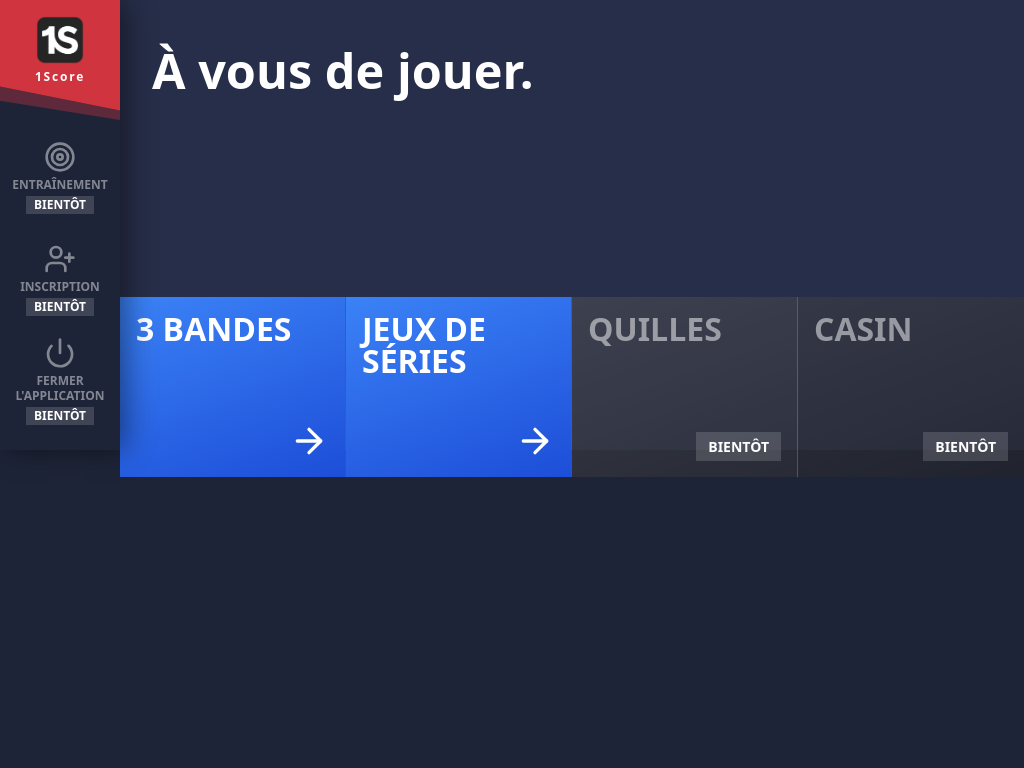
HomeScreen › opens the name sheet from the name field, and nothing else
The image size is (1024, 768).
Press the mouse on the button with test id "category-series" at (459, 387), box [346,297,572,477]
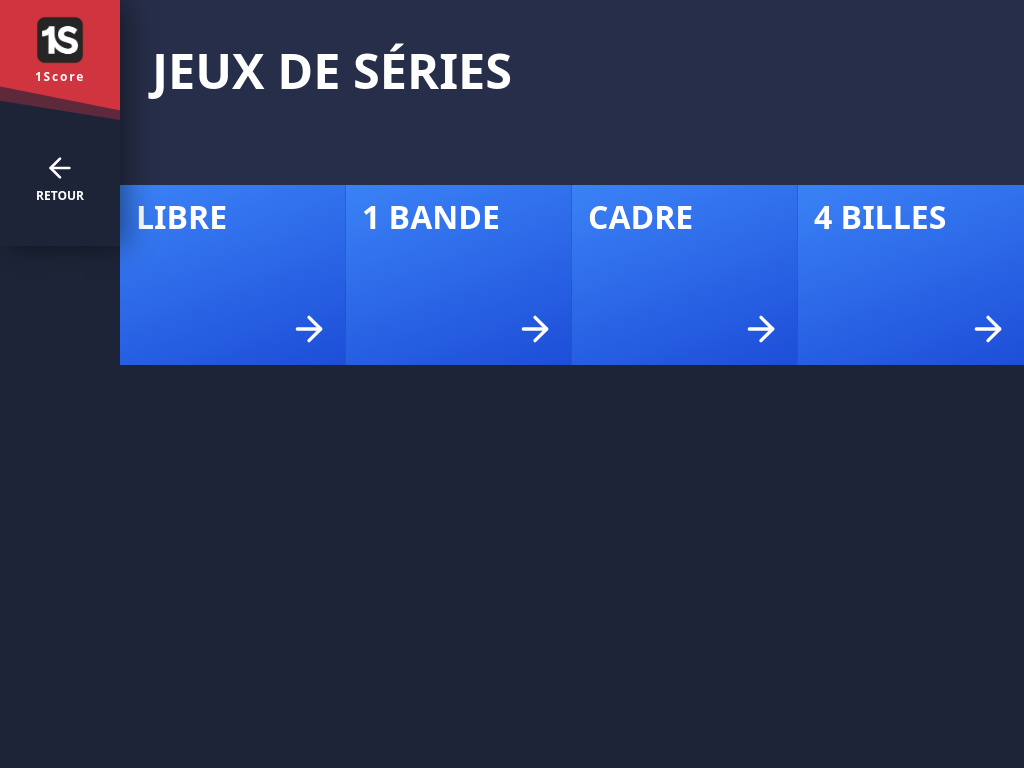
Press the mouse on the button with test id "mode-libre" at (233, 275), box [120,185,346,365]
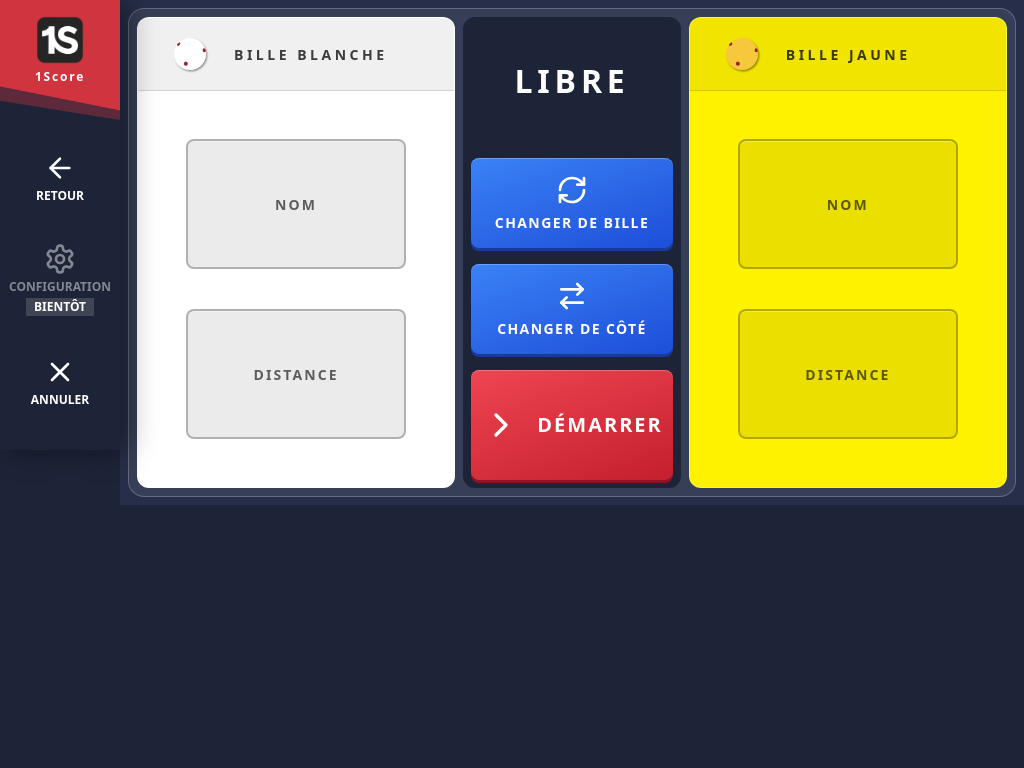
Press the mouse on the button with test id "name-field" at (296, 204), box [186,139,406,269]
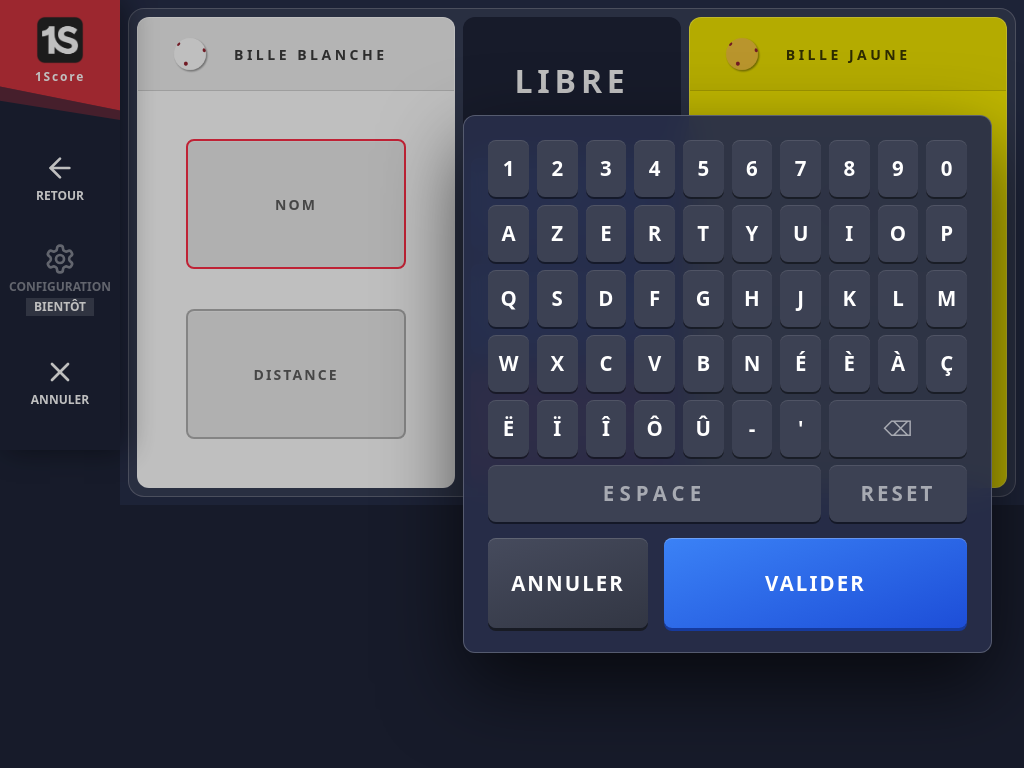
Check: the dialog with test id "alpha-keyboard-sheet" is shown
